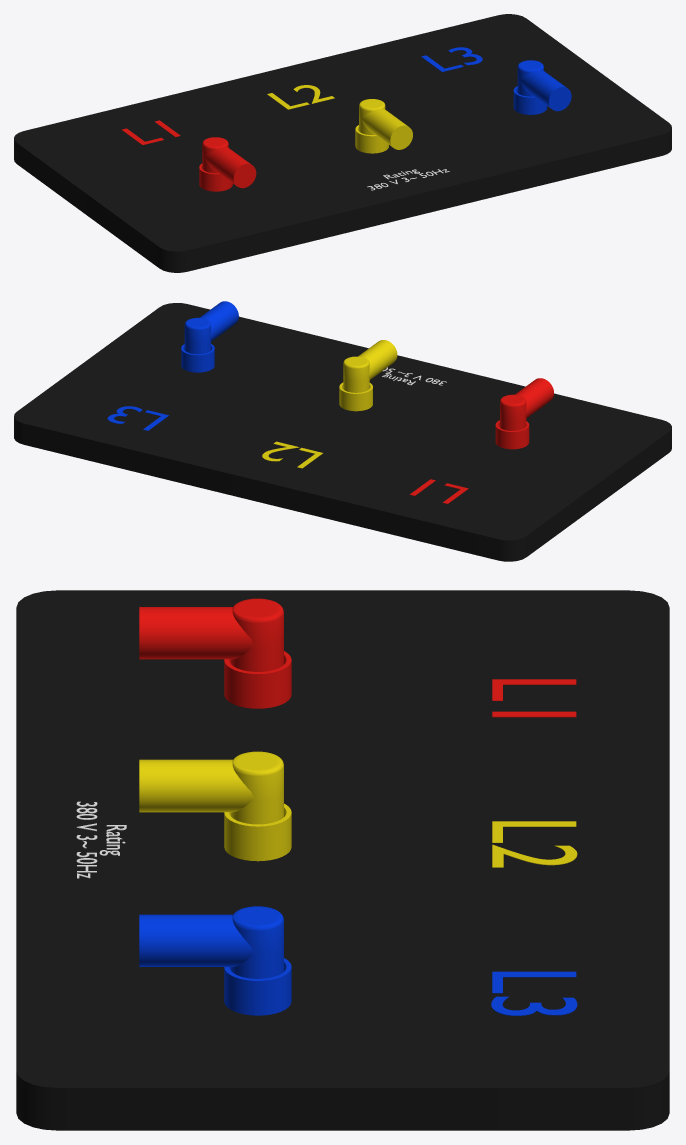
File: Power Board.fbx
The picture shows the model from 3 angles, top to bottom: view 1: azimuth 30°, elevation 25°; view 2: azimuth 150°, elevation 25°; view 3: azimuth 270°, elevation 25°; orthographic projection. The views are drawn at different scales.
Parts seen in each view (by area): view 1: Cube, terminal 2, terminal 1, terminal 3; view 2: Cube, terminal 2, terminal 3, terminal 1; view 3: Cube, terminal 3, terminal 1, terminal 2.
Part boxes in pixels (bbox=[...]): Cube: bbox=[14, 14, 671, 272]; terminal 2: bbox=[517, 60, 571, 111]; terminal 1: bbox=[202, 137, 256, 188]; terminal 3: bbox=[359, 99, 412, 149]; Cube: bbox=[14, 303, 671, 561]; terminal 2: bbox=[184, 301, 238, 354]; terminal 3: bbox=[343, 340, 397, 392]; terminal 1: bbox=[500, 378, 553, 430]; Cube: bbox=[16, 590, 669, 1130]; terminal 3: bbox=[139, 751, 283, 824]; terminal 1: bbox=[139, 598, 283, 671]; terminal 2: bbox=[139, 906, 283, 978].
Bounding box in the file's own units: 360 × 43.27 × 200.
